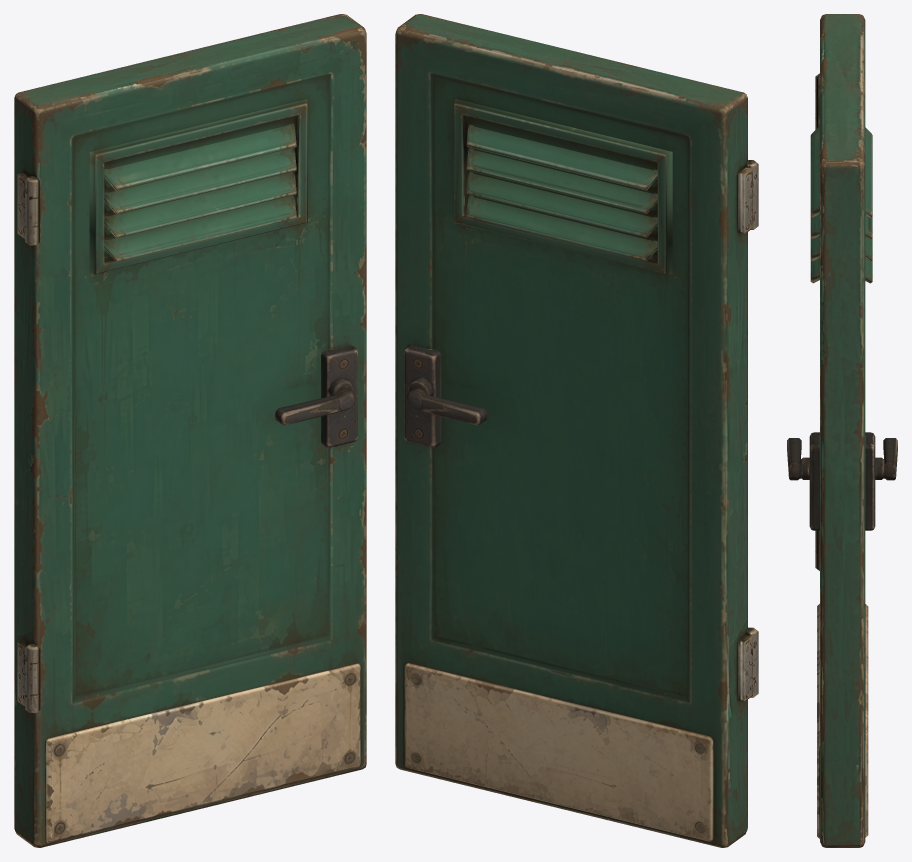
Rendered from P41_service_door_leaf_Runtime_1k.glb.
3 renders of one model, left to right at view 1: azimuth 30°, elevation 25°; view 2: azimuth 150°, elevation 25°; view 3: azimuth 270°, elevation 25°, orthographic. The views are drawn at different scales.
Parts seen in each view (by area): view 1: tripo_node_cdcd2256; view 2: tripo_node_cdcd2256; view 3: tripo_node_cdcd2256.
Part boxes in pixels (box(x1,y1,x2,y2)): tripo_node_cdcd2256: box(14, 14, 366, 847); tripo_node_cdcd2256: box(395, 14, 758, 847); tripo_node_cdcd2256: box(787, 14, 897, 847).
Bounding box in the file's own units: 1.03 × 2.14 × 0.3126.
Materials: 1 (1 with a texture image).
